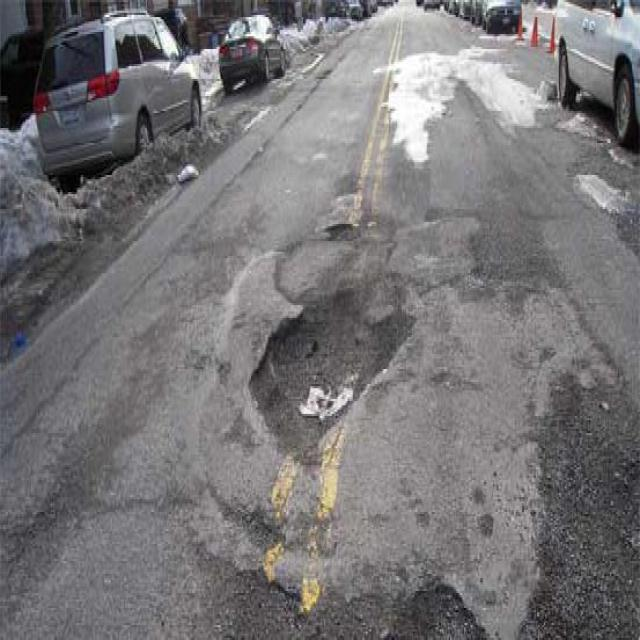pothole: (325, 214, 353, 244)
